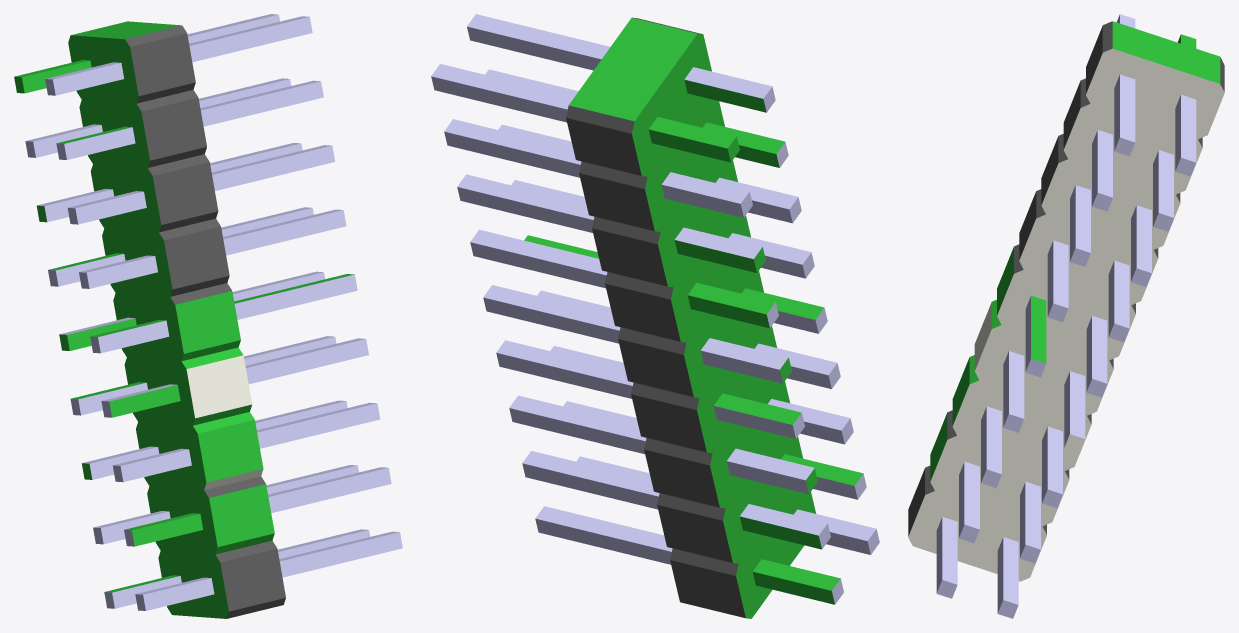
Rendered from EBoxNewAsm_stp_1_IMC413_stp_1_IMC413_3_stp_1_solid1.obj.
The picture shows the model from 3 angles, left to right: view 1: azimuth 30°, elevation 25°; view 2: azimuth 150°, elevation 25°; view 3: azimuth 270°, elevation 25°; orthographic projection. The views are drawn at different scales.
Parts seen in each view (by area): view 1: mesh15958, mesh15918, mesh15906, mesh15921, mesh15927, mesh15930, mesh15924, mesh15909, mesh15915, mesh15912, mesh15875, mesh15870 (+44 smaller); view 2: mesh15958, mesh15932, mesh15949, mesh15952, mesh15902, mesh15946, mesh15957, mesh15937, mesh15934, mesh15940, mesh15943, mesh15857 (+57 smaller); view 3: mesh15816, mesh15932, mesh15839, mesh15894, mesh15889, mesh15834, mesh15899, mesh15844, mesh15884, mesh15819, mesh15852, mesh15874 (+21 smaller).
Part boxes in pixels (x1,y1,x2,y2): mesh15958: (68, 35, 228, 618); mesh15918: (175, 291, 240, 353); mesh15906: (220, 548, 285, 611); mesh15921: (164, 226, 229, 289); mesh15927: (141, 97, 206, 160); mesh15930: (130, 33, 195, 95); mesh15924: (152, 162, 218, 224); mesh15909: (209, 484, 274, 546); mesh15915: (186, 355, 251, 418); mesh15912: (198, 419, 263, 482); mesh15875: (223, 210, 346, 255); mesh15870: (212, 146, 335, 190); mesh15958: (632, 33, 816, 618); mesh15932: (569, 17, 696, 121); mesh15949: (631, 394, 706, 452); mesh15952: (644, 449, 719, 507); mesh15902: (670, 560, 745, 618); mesh15946: (618, 339, 693, 396); mesh15957: (657, 505, 732, 562); mesh15937: (579, 173, 654, 231); mesh15934: (566, 118, 641, 175); mesh15940: (592, 228, 667, 286); mesh15943: (605, 283, 680, 341); mesh15857: (431, 64, 574, 109); mesh15816: (908, 48, 1224, 581); mesh15932: (1112, 21, 1220, 83); mesh15839: (1114, 260, 1129, 328); mesh15894: (964, 461, 979, 529); mesh15889: (986, 406, 1001, 474); mesh15834: (1092, 316, 1107, 383); mesh15899: (942, 517, 957, 584); mesh15844: (1136, 205, 1151, 272); mesh15884: (1009, 351, 1024, 418); mesh15819: (1025, 481, 1040, 549); mesh15852: (1120, 74, 1135, 142); mesh15874: (1053, 240, 1068, 308).
Bounding box in the file's own units: 0.0114 × 0.023 × 0.0124.
